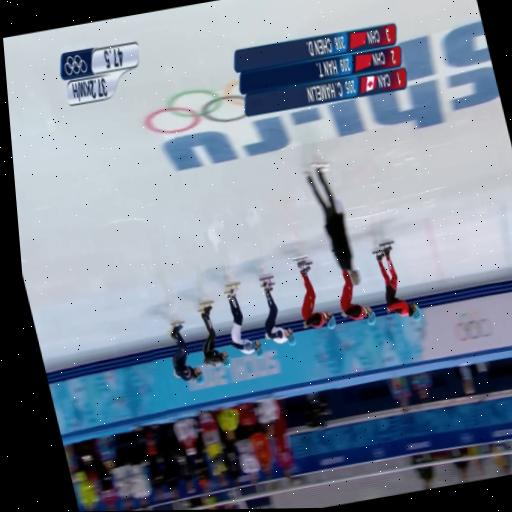Skater: (373, 243, 420, 320), (225, 282, 262, 357), (296, 258, 335, 328), (260, 276, 294, 345), (198, 301, 230, 366), (169, 323, 203, 384), (340, 269, 375, 324)
